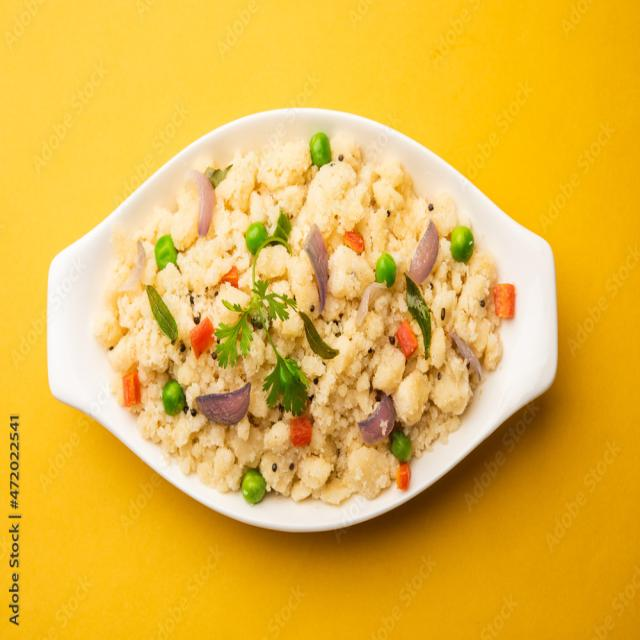UPMA: (102, 135, 516, 509)
